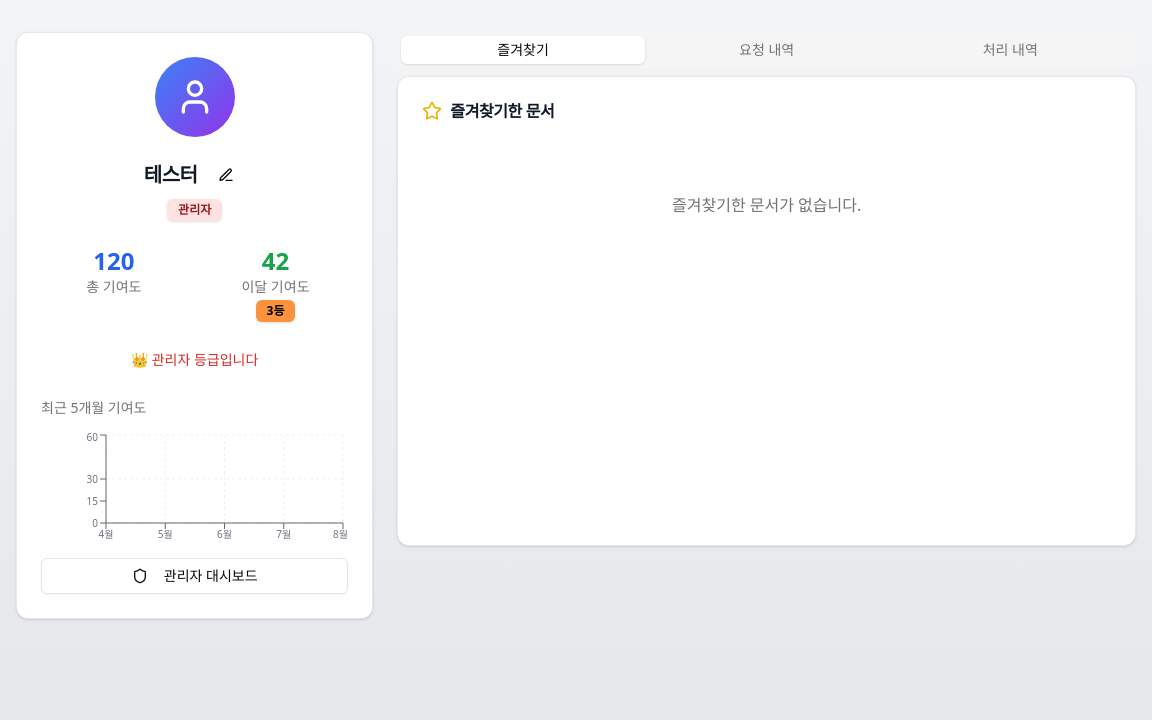
Test: ProfilePage › disables save while the nickname mutation is pending
The width and height of the screenshot is (1152, 720).
Click the button named "닉네임 수정" at (226, 175), box [206,159,246,191]
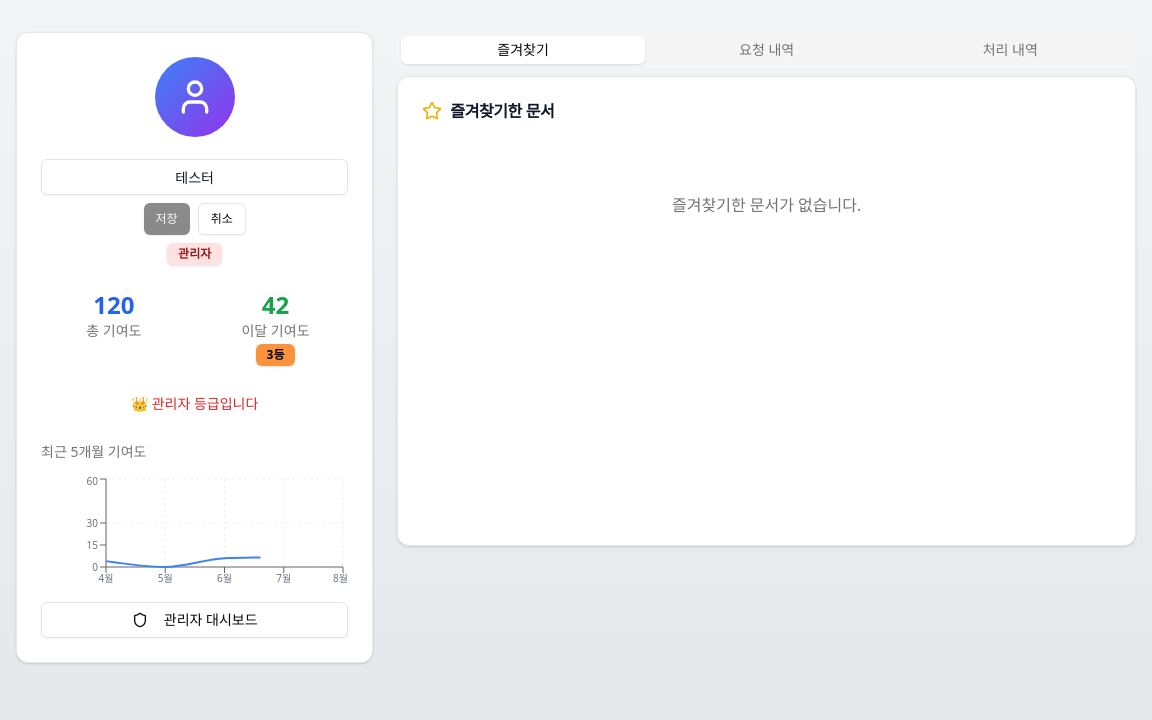
Check: the button "저장" is disabled, box [144,203,190,235]
